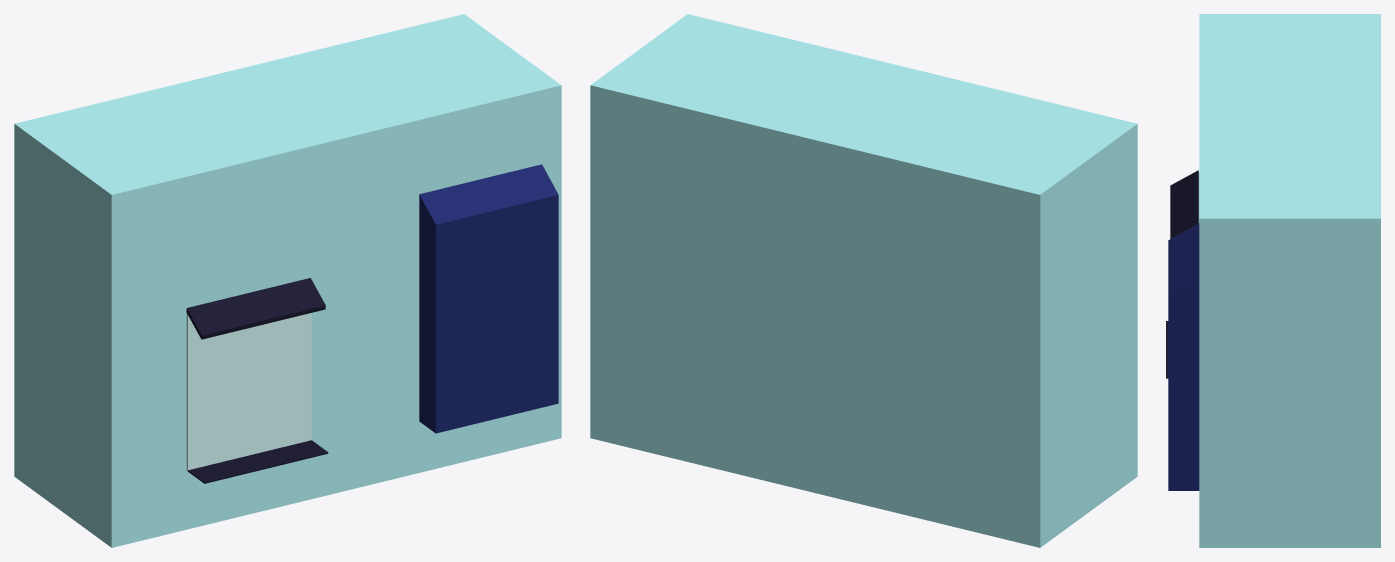
The picture shows the model from 3 angles, left to right: view 1: azimuth 30°, elevation 25°; view 2: azimuth 150°, elevation 25°; view 3: azimuth 270°, elevation 25°; orthographic projection. The views are drawn at different scales.
Parts seen in each view (by area): view 1: Mesh_0.007; view 2: Mesh_0.007; view 3: Mesh_0.007.
Part boxes in pixels (box(x1,y1,x2,y2)): Mesh_0.007: box(14, 14, 561, 547); Mesh_0.007: box(590, 14, 1137, 547); Mesh_0.007: box(1166, 14, 1380, 547).
Bounding box in the file's own units: 4 × 3 × 1.77.
